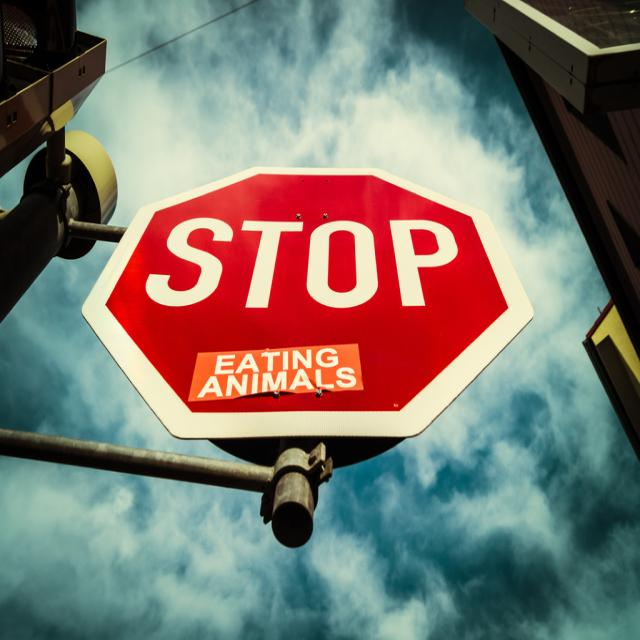Stop-sign: (82, 163, 534, 440)
